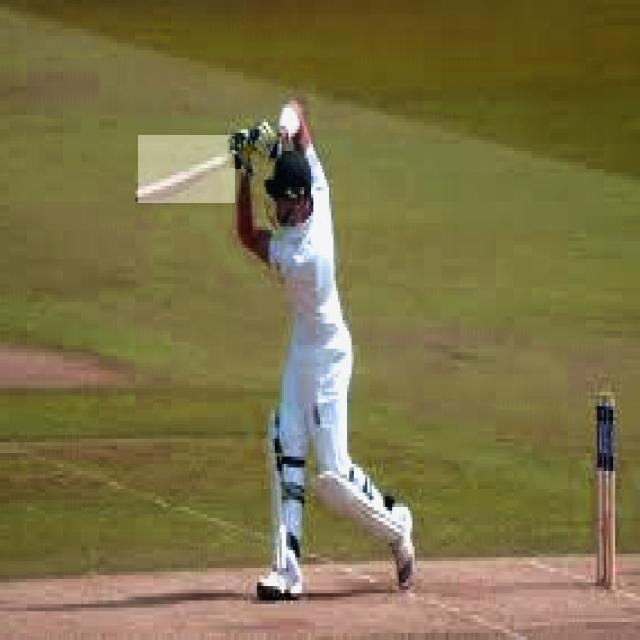bat: (137, 135, 234, 206)
